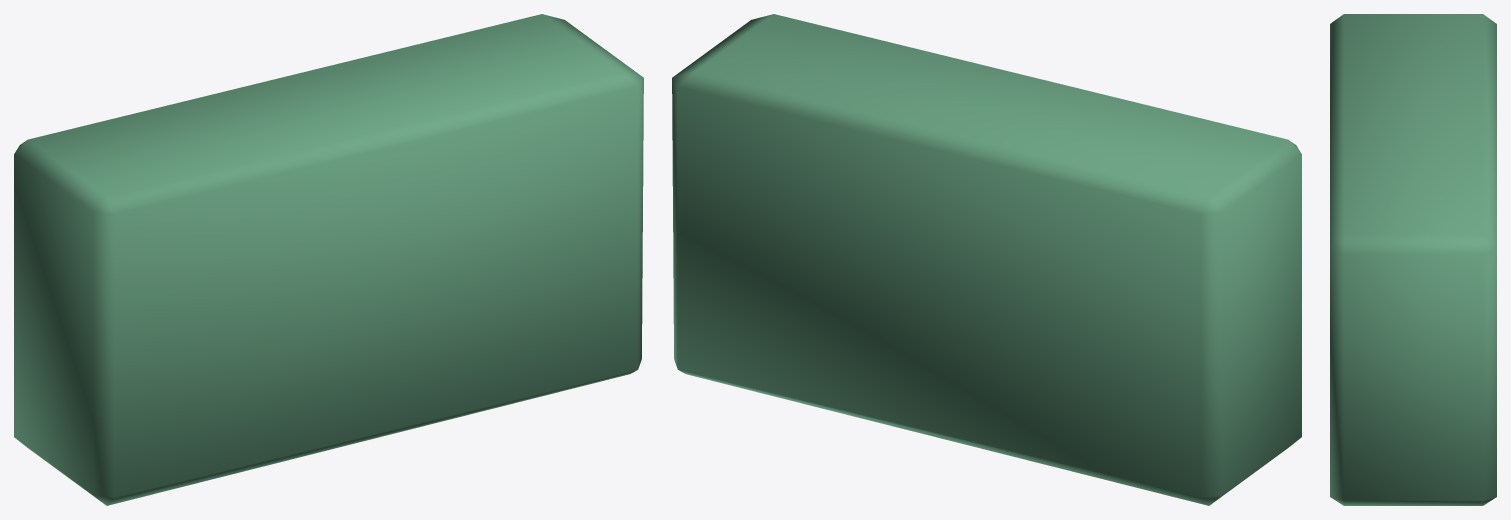
Rendered from number1.fbx.
3 views of the same model, side by side, from view 1: azimuth 30°, elevation 25°; view 2: azimuth 150°, elevation 25°; view 3: azimuth 270°, elevation 25° (orthographic). The views are drawn at different scales.
Visible parts, largest first — view 1: 1_low; view 2: 1_low; view 3: 1_low.
Boxes of the visible parts, x1,y1,x2,y2 form: 1_low: [14, 14, 643, 505]; 1_low: [672, 14, 1301, 505]; 1_low: [1330, 14, 1496, 505].
Size of the model in its own units: 1171 by 349 by 627.
